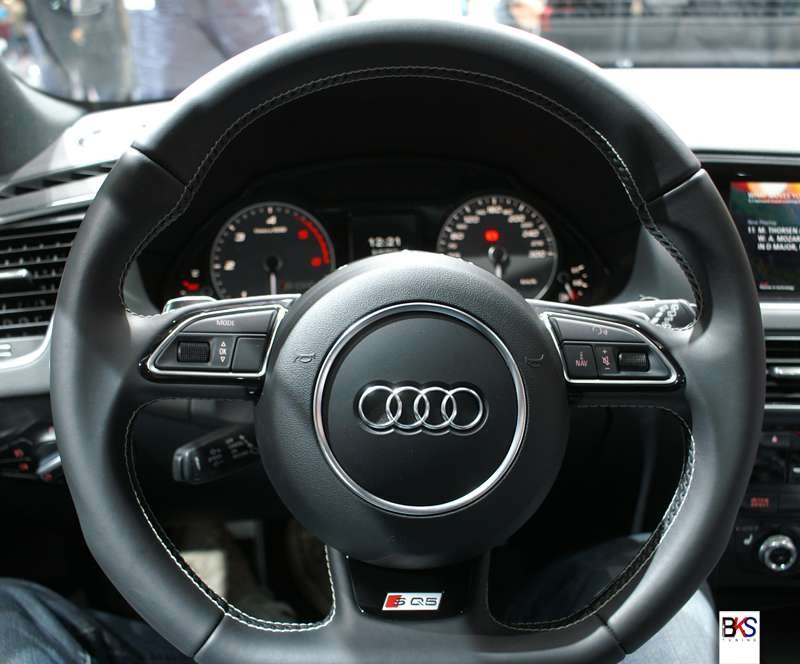audi: (340, 378, 491, 438)
